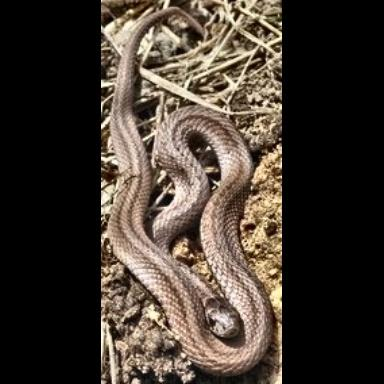snake: (107, 8, 276, 380)
